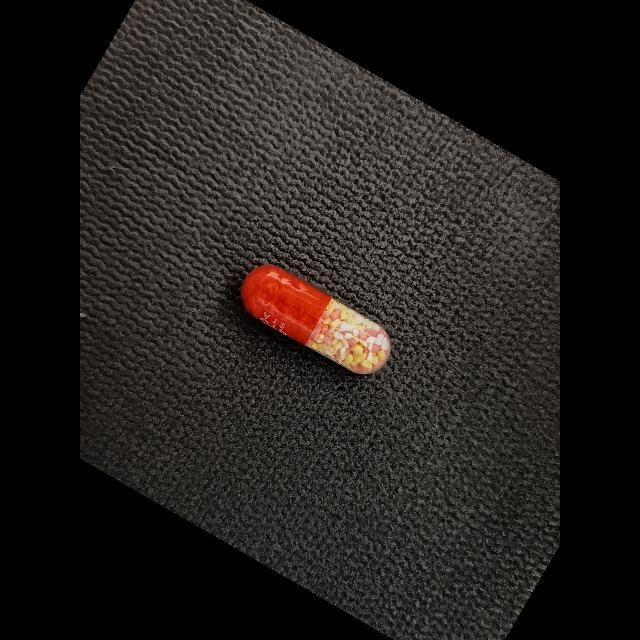Intact Capsule: (241, 265, 390, 373)
